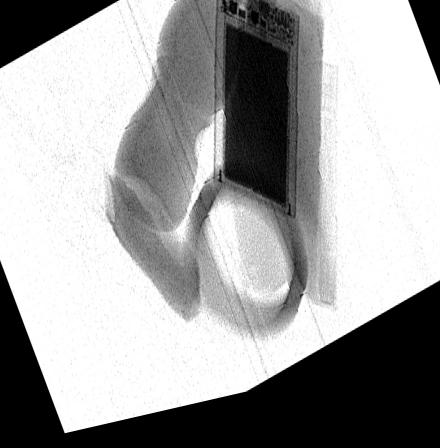Powerbank: (212, 0, 299, 232)
